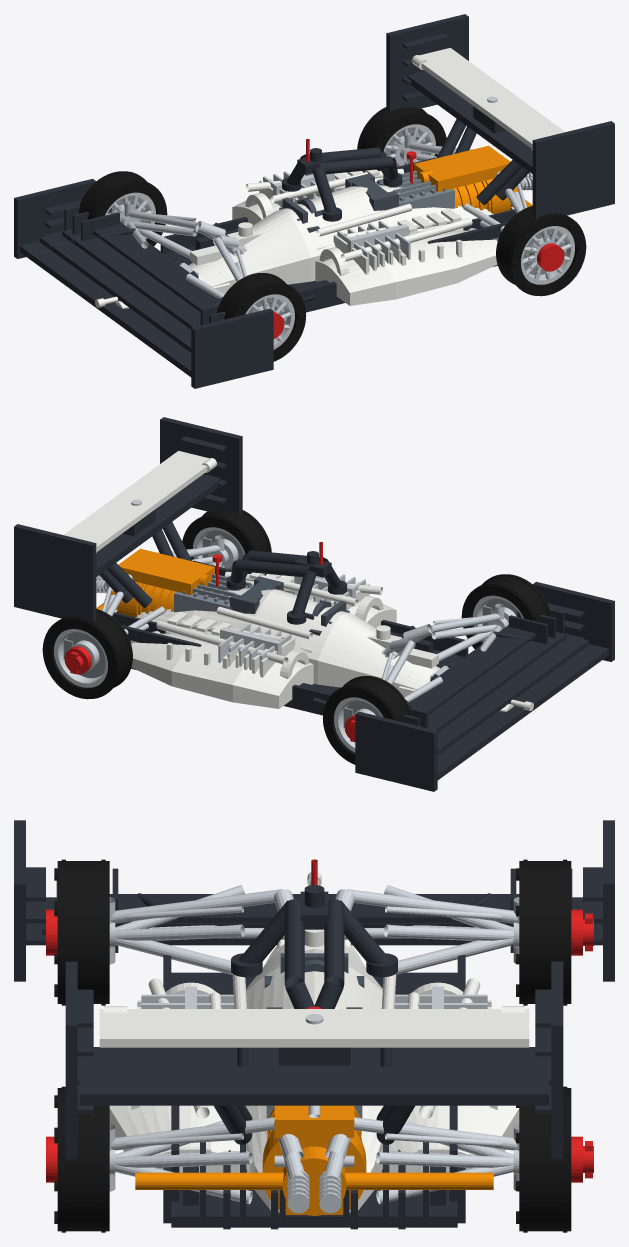
File: FORMULA_EV_V2_COMPLETE_ANIMATED_DRS.glb
3 views of the same model, one above another, from view 1: azimuth 30°, elevation 25°; view 2: azimuth 150°, elevation 25°; view 3: azimuth 270°, elevation 25° (orthographic). The views are drawn at different scales.
Visible parts, largest first — view 1: Four-element front wing, Rear wing mainplane, Sculpted sidepods and radiator ducts, Enhanced monocoque, DRS flap animated, Motor gearbox and cooling, Rear left slick tire, Front pushrod suspension, Enhanced halo, Venturi floor and diffuser, Front left slick tire, Radiator cooling system (+10 smaller); view 2: Four-element front wing, Rear wing mainplane, Sculpted sidepods and radiator ducts, Enhanced monocoque, DRS flap animated, Motor gearbox and cooling, Rear right slick tire, Front pushrod suspension, Enhanced halo, Venturi floor and diffuser, Front right slick tire, Radiator cooling system (+10 smaller); view 3: Rear wing mainplane, DRS flap animated, Rear pushrod suspension, Four-element front wing, Front pushrod suspension, Venturi floor and diffuser, Motor gearbox and cooling, Sculpted sidepods and radiator ducts, Enhanced halo, Enhanced monocoque, Front left slick tire, Front right slick tire (+6 smaller).
Part boxes in pixels (x1,y1,x2,y2): Four-element front wing: [14, 178, 273, 388]; Rear wing mainplane: [386, 14, 614, 218]; Sculpted sidepods and radiator ducts: [232, 168, 498, 305]; Enhanced monocoque: [188, 172, 493, 287]; DRS flap animated: [412, 48, 565, 150]; Motor gearbox and cooling: [414, 145, 532, 213]; Rear left slick tire: [496, 206, 586, 296]; Front pushrod suspension: [120, 200, 247, 298]; Enhanced halo: [282, 147, 402, 221]; Venturi floor and diffuser: [160, 157, 516, 312]; Front left slick tire: [217, 273, 306, 361]; Radiator cooling system: [263, 171, 410, 271]; Four-element front wing: [355, 581, 614, 791]; Rear wing mainplane: [14, 417, 242, 621]; Sculpted sidepods and radiator ducts: [130, 571, 396, 708]; Enhanced monocoque: [135, 575, 440, 690]; DRS flap animated: [63, 451, 216, 553]; Motor gearbox and cooling: [96, 548, 214, 616]; Rear right slick tire: [42, 609, 132, 699]; Front pushrod suspension: [382, 603, 508, 701]; Enhanced halo: [226, 550, 346, 624]; Venturi floor and diffuser: [112, 560, 468, 715]; Front right slick tire: [322, 676, 411, 764]; Radiator cooling system: [218, 574, 365, 674]; Rear wing mainplane: [65, 961, 563, 1159]; DRS flap animated: [99, 1006, 529, 1047]; Rear pushrod suspension: [109, 1112, 519, 1213]; Four-element front wing: [14, 820, 614, 981]; Front pushrod suspension: [109, 885, 519, 974]; Venturi floor and diffuser: [163, 955, 465, 1229]; Motor gearbox and cooling: [135, 1105, 493, 1215]; Sculpted sidepods and radiator ducts: [109, 978, 519, 1172]; Enhanced halo: [231, 885, 397, 1008]; Enhanced monocoque: [232, 929, 396, 1212]; Front left slick tire: [54, 859, 109, 1005]; Front right slick tire: [516, 859, 571, 1005].
Size of the model in its own units: 214 by 70.85 by 151.
